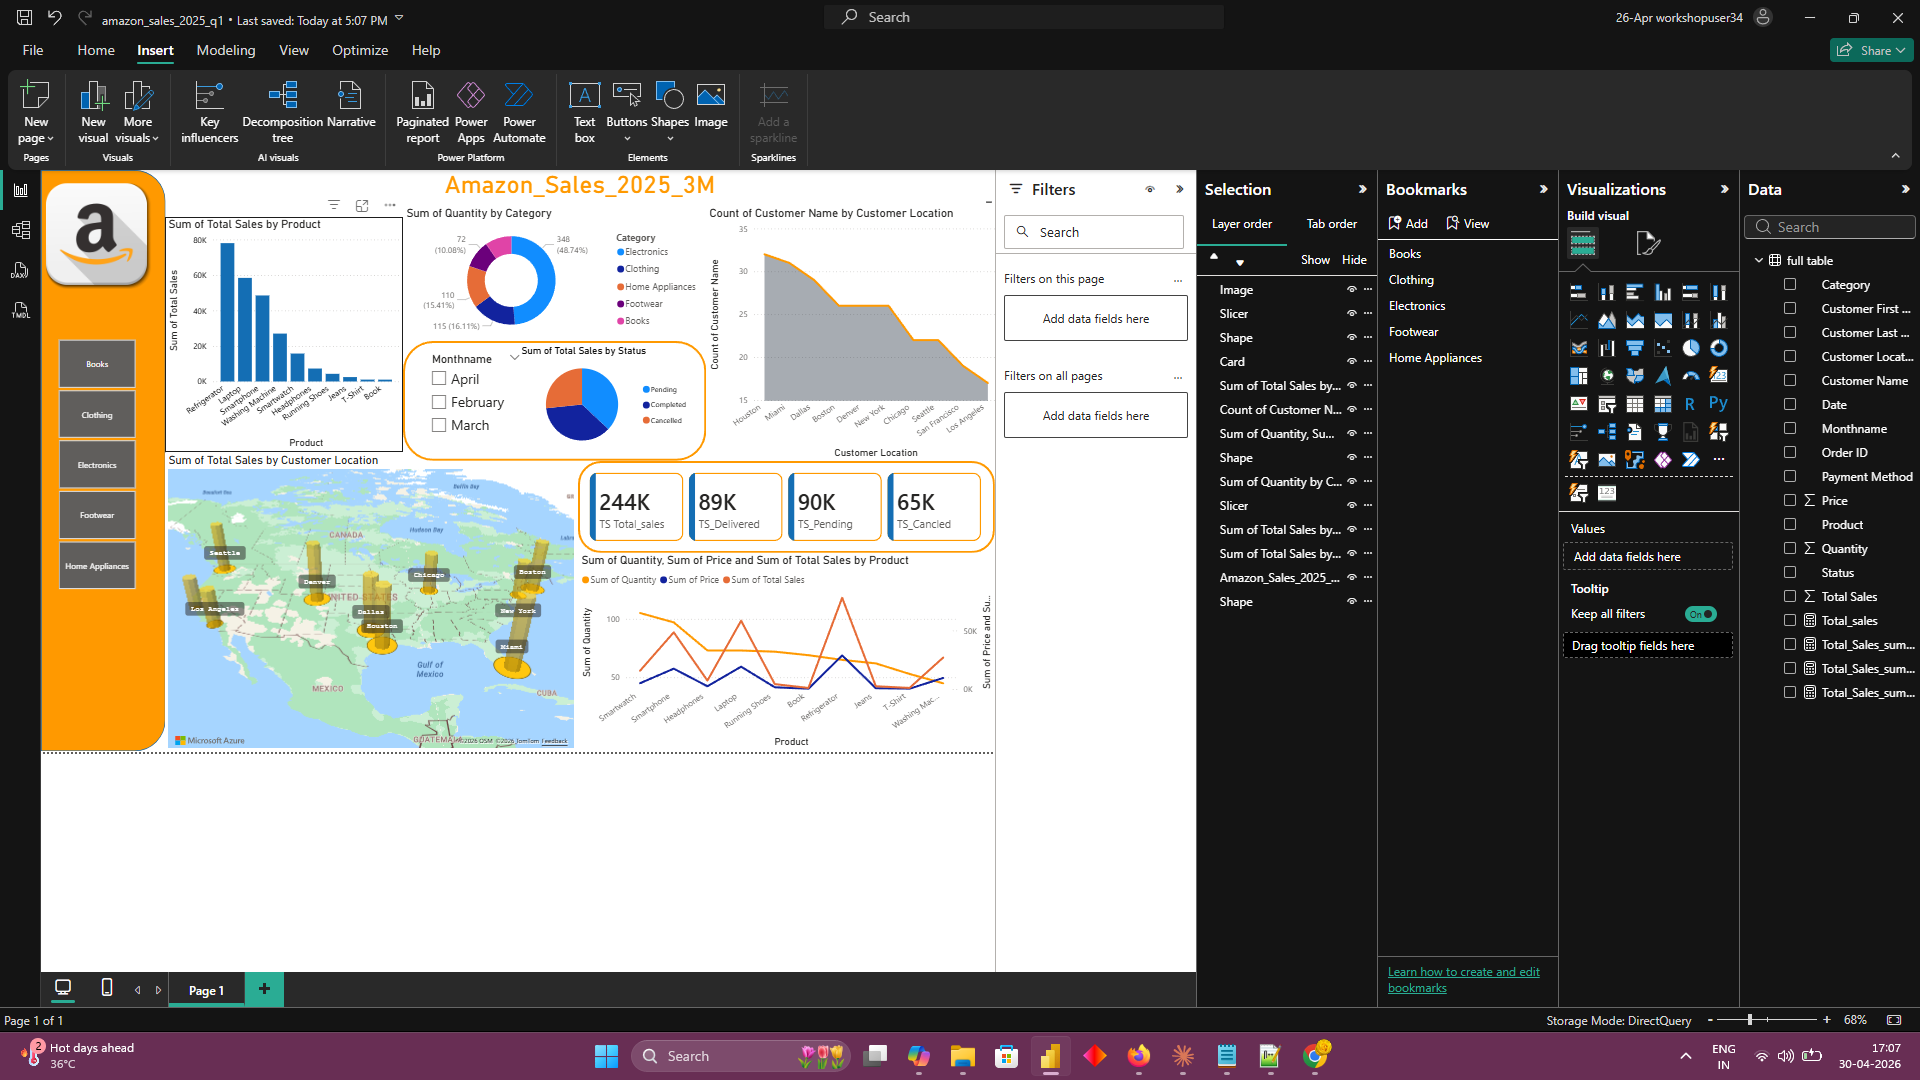

Layout of this report page (visuals, bound fields, positions):
{"tool":"powerbi","page":{"name":"Page 1","canvas":[1394,850],"ordinal":0},"visuals":[{"type":"shape","box":[0,0,181.9,849.4],"z":0},{"type":"textbox","title":"Amazon_Sales_2025_3M","box":[181.2,0,1212.8,52.6],"z":1000},{"type":"azureMap","fields":{"Size":["Sum(full table.Total Sales)"],"Category":["full table.Customer Location"]},"box":[181.9,413.1,603.2,436.3],"z":2000},{"type":"clusteredColumnChart","fields":{"Category":["full table.Product"],"Y":["Sum(full table.Total Sales)"]},"box":[181.9,69.1,347.2,343.3],"z":3000},{"type":"slicer","fields":{"Values":["full table.Monthname"]},"box":[558.2,261.7,153.8,150.7],"z":4000},{"type":"donutChart","fields":{"Y":["Sum(full table.Quantity)"],"Category":["full table.Category"]},"box":[529.1,52.5,442.6,198.4],"z":5000},{"type":"shape","box":[529.3,250.3,443.2,175.1],"z":6000},{"type":"lineChart","fields":{"Y":["Sum(full table.Quantity)"],"Category":["full table.Product"],"Y2":["Sum(full table.Price)","Sum(full table.Total Sales)"]},"box":[784.7,559.6,609.3,289.3],"z":7000},{"type":"areaChart","fields":{"Y":["CountNonNull(full table.Customer Name)"],"Category":["full table.Customer Location"]},"box":[972.2,52.3,431.4,372.7],"z":8000},{"type":"pieChart","fields":{"Y":["Sum(full table.Total Sales)"],"Category":["full table.Status"]},"box":[697,255.7,260.1,157.8],"z":9000},{"type":"cardVisual","fields":{"Data":["full table.Total_sales","full table.Total_Sales_sum_for_completed","full table.Total_Sales_sum_for_Pending","full table.Total_Sales_sum_for_canclled"]},"box":[784.7,425.2,609.3,134.4],"z":10000},{"type":"shape","box":[784.7,425.2,609.3,134.4],"z":11000},{"type":"slicer","fields":{"Values":["full table.Category"]},"box":[0,241.1,162.2,378.5],"z":12000},{"type":"image","box":[0,13.2,162.2,160.7],"z":12001}]}

Visuals, with their boxes on the page's 1394x850 design canvas (x1, y1, x2, y2). These are canvas units, not pixel positions in the 1920x1080 screenshot, which may show the page scaled, cropped or inside an application window:
shape: (left=0, top=0, right=182, bottom=849)
"Amazon_Sales_2025_3M" textbox: (left=181, top=0, right=1394, bottom=53)
azureMap - Sum(full table.Total Sales) x full table.Customer Location: (left=182, top=413, right=785, bottom=849)
clusteredColumnChart - full table.Product x Sum(full table.Total Sales): (left=182, top=69, right=529, bottom=412)
slicer - full table.Monthname: (left=558, top=262, right=712, bottom=412)
donutChart - Sum(full table.Quantity) x full table.Category: (left=529, top=52, right=972, bottom=251)
shape: (left=529, top=250, right=972, bottom=425)
lineChart - Sum(full table.Quantity) x full table.Product: (left=785, top=560, right=1394, bottom=849)
areaChart - CountNonNull(full table.Customer Name) x full table.Customer Location: (left=972, top=52, right=1404, bottom=425)
pieChart - Sum(full table.Total Sales) x full table.Status: (left=697, top=256, right=957, bottom=414)
cardVisual - full table.Total_sales x full table.Total_Sales_sum_for_completed: (left=785, top=425, right=1394, bottom=560)
shape: (left=785, top=425, right=1394, bottom=560)
slicer - full table.Category: (left=0, top=241, right=162, bottom=620)
image: (left=0, top=13, right=162, bottom=174)
